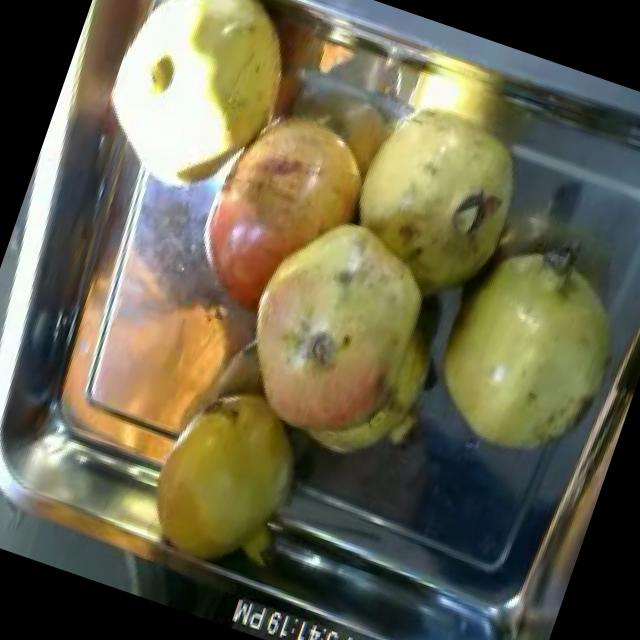fruit: (204, 175, 463, 478), (401, 214, 640, 489), (314, 65, 556, 322), (68, 0, 331, 228), (176, 72, 398, 312), (118, 352, 336, 594)
